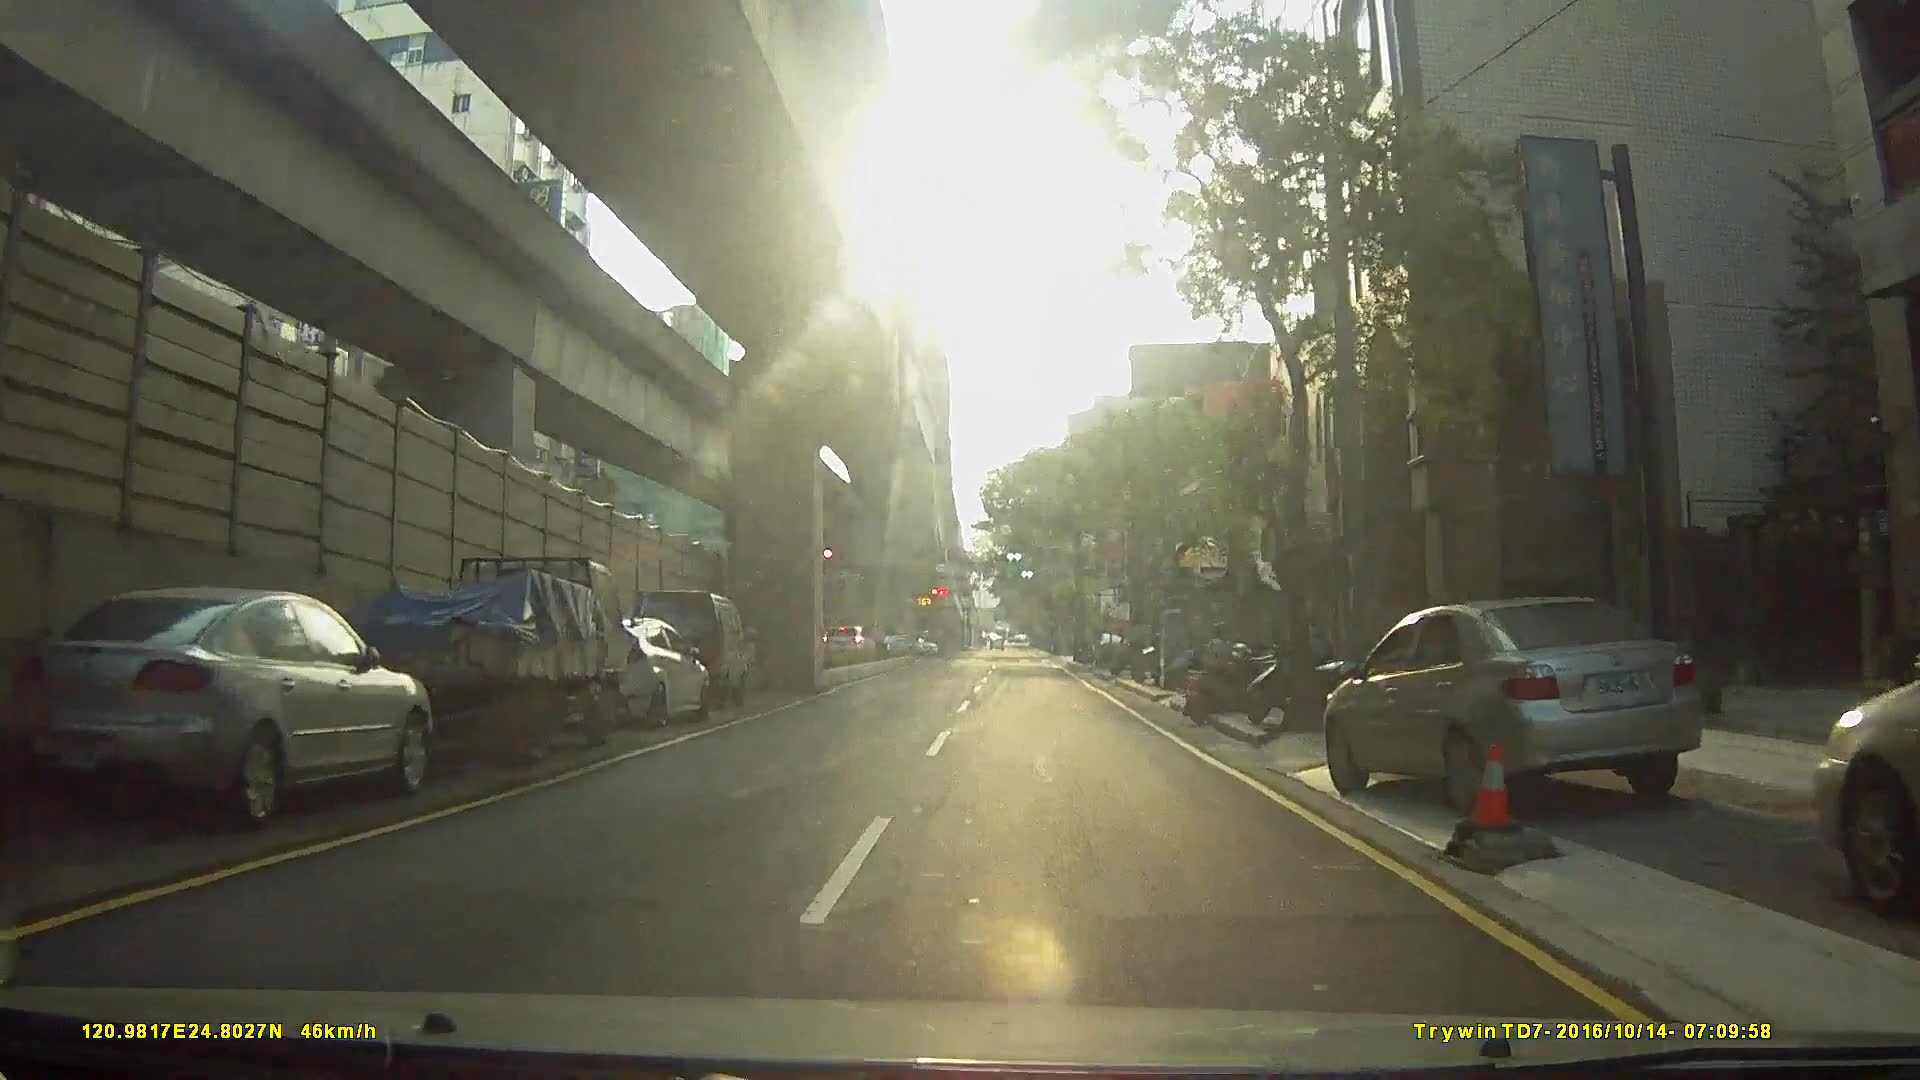rider: (1178, 614, 1268, 726)
vehicle: (9, 580, 455, 832), (1290, 582, 1748, 801), (315, 548, 653, 766), (1805, 661, 1920, 918), (548, 610, 707, 732), (628, 585, 751, 709), (819, 620, 876, 656)
